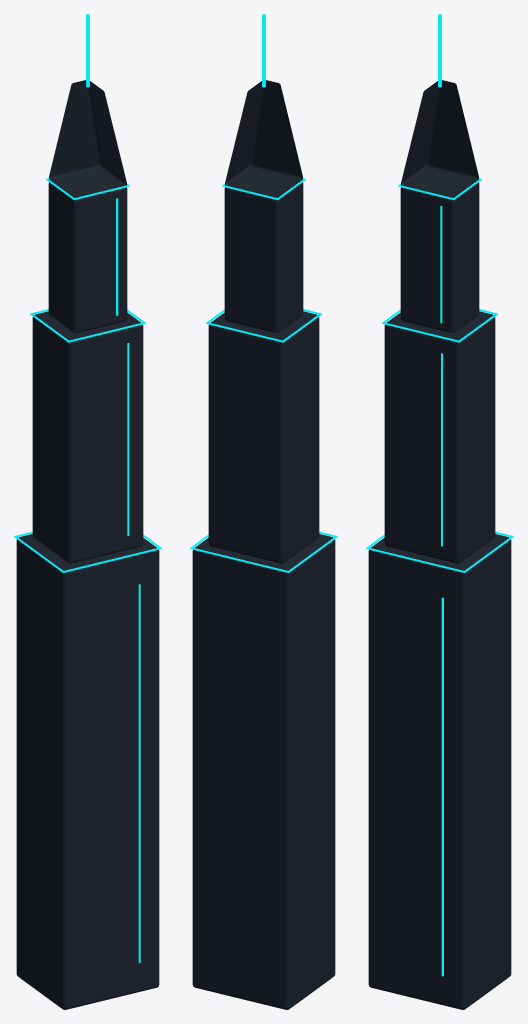
The model's file is HeroMonolith.glb.
3 renders of one model, left to right at view 1: azimuth 30°, elevation 25°; view 2: azimuth 150°, elevation 25°; view 3: azimuth 330°, elevation 25°, orthographic.
Visible parts, largest first — view 1: Hero_Tier0, Hero_Tier1, Hero_Tier2, Hero_Crown, Hero_Spine0, Hero_Spine1; view 2: Hero_Tier0, Hero_Tier1, Hero_Tier2, Hero_Crown; view 3: Hero_Tier0, Hero_Tier1, Hero_Tier2, Hero_Crown, Hero_Spine0, Hero_Spine1.
Boxes of the visible parts, x1,y1,x2,y2 form: Hero_Tier0: (16,534,159,1009); Hero_Tier1: (32,311,143,563); Hero_Tier2: (48,171,127,333); Hero_Crown: (49,80,126,197); Hero_Spine0: (138,584,140,963); Hero_Spine1: (127,343,129,535); Hero_Tier0: (192,534,335,1009); Hero_Tier1: (208,311,319,563); Hero_Tier2: (224,169,303,333); Hero_Crown: (225,80,302,197); Hero_Tier0: (368,534,511,1009); Hero_Tier1: (384,311,495,563); Hero_Tier2: (400,172,479,333); Hero_Crown: (401,80,478,197); Hero_Spine0: (441,597,443,976); Hero_Spine1: (441,353,442,546).
Bounding box in the file's own units: 14.2 × 133 × 12.28.
